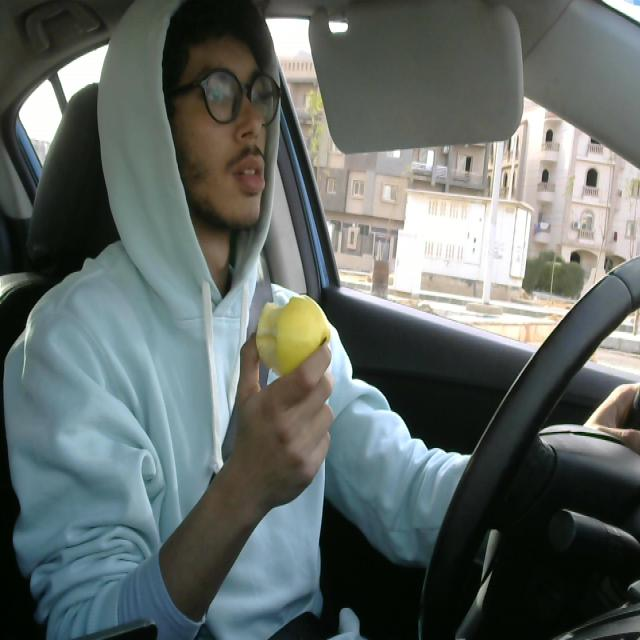eating: (248, 287, 334, 390)
